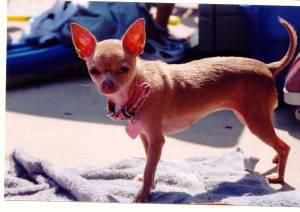dog-chihuahua: (69, 16, 144, 93)
